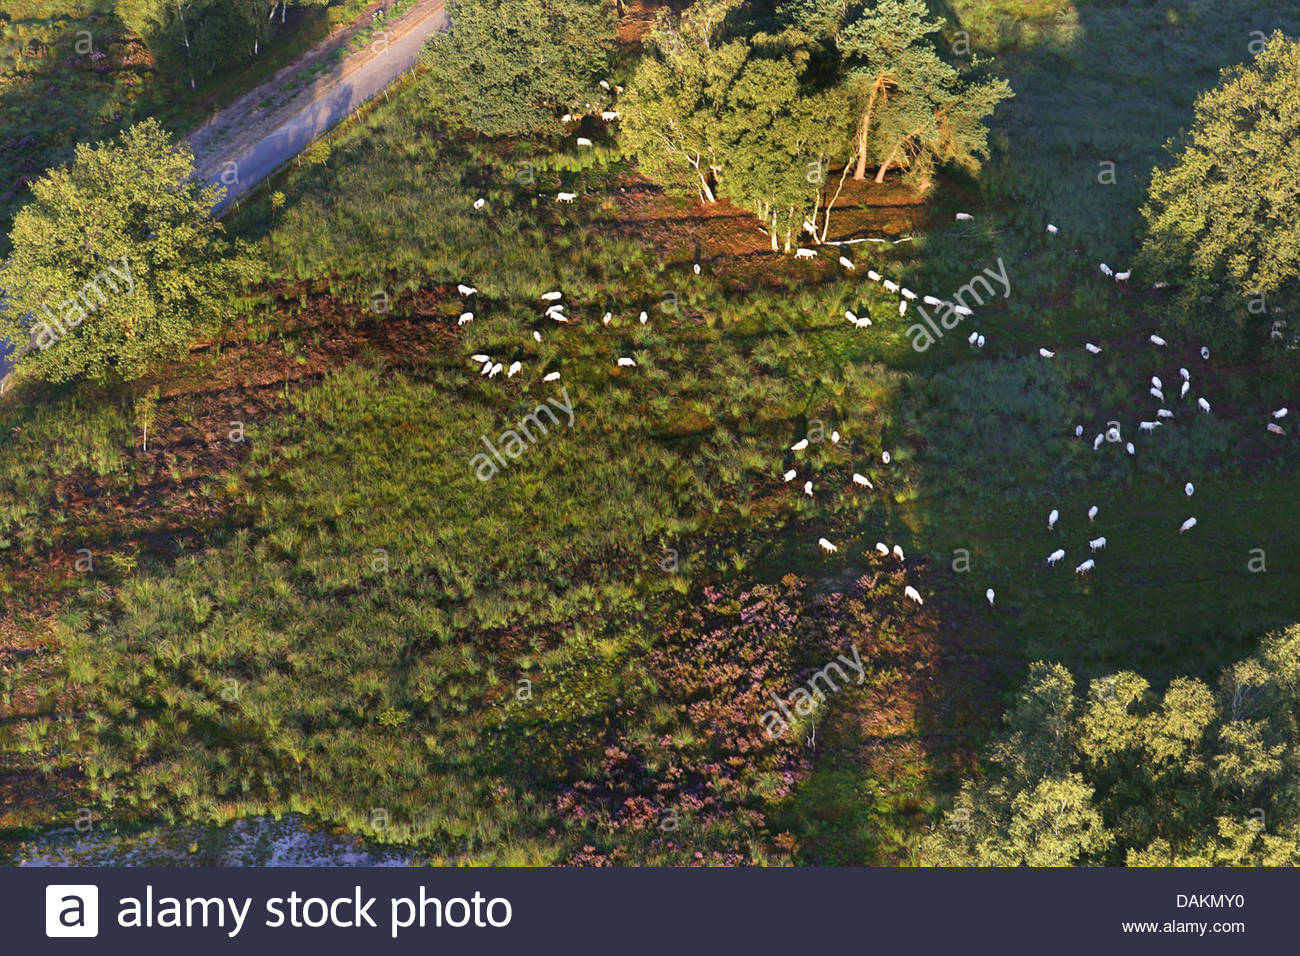sheep: (819, 536, 839, 555), (904, 585, 922, 605), (1046, 549, 1065, 566), (1075, 559, 1094, 576), (851, 472, 871, 489), (1137, 421, 1164, 433), (1180, 516, 1196, 534), (1046, 509, 1059, 531), (1090, 537, 1109, 551), (541, 371, 562, 384), (892, 542, 905, 561), (837, 256, 856, 270), (457, 282, 476, 295), (555, 191, 577, 202), (540, 289, 562, 300), (954, 305, 974, 317), (1114, 269, 1131, 283), (1158, 408, 1176, 421), (617, 356, 638, 367), (508, 361, 522, 378), (1093, 433, 1104, 453), (791, 439, 809, 451), (458, 311, 472, 326), (796, 248, 816, 259), (1198, 397, 1211, 413), (901, 287, 917, 300), (1149, 334, 1166, 346), (868, 269, 885, 281), (470, 351, 489, 362), (1149, 388, 1163, 402), (1040, 347, 1054, 361), (876, 542, 889, 557), (602, 112, 621, 122), (1099, 262, 1113, 276), (1274, 408, 1289, 420), (1182, 380, 1190, 402), (883, 279, 899, 290), (955, 212, 974, 221), (854, 319, 873, 328), (923, 294, 940, 304), (1109, 429, 1122, 442), (491, 362, 503, 377), (1090, 505, 1099, 523), (550, 313, 568, 322), (1185, 483, 1195, 499), (897, 301, 907, 317), (546, 304, 563, 313), (1087, 344, 1102, 354), (974, 336, 986, 348), (1125, 442, 1135, 456), (845, 310, 855, 324), (639, 310, 649, 324), (481, 359, 492, 373), (986, 588, 994, 604), (805, 480, 814, 496), (1075, 424, 1083, 440), (969, 331, 977, 347), (576, 139, 592, 147), (832, 430, 841, 443), (1182, 369, 1192, 380), (1153, 377, 1161, 389)
